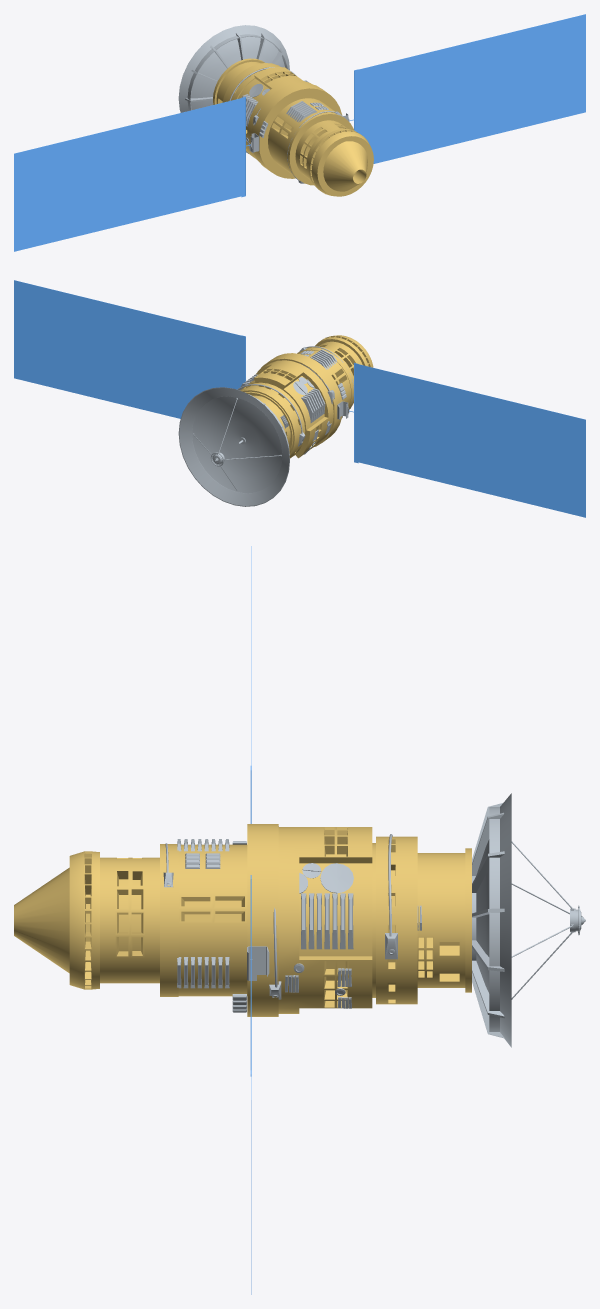
Rendered from satellite.glb.
3 views of the same model, one above another, from view 1: azimuth 30°, elevation 25°; view 2: azimuth 150°, elevation 25°; view 3: azimuth 270°, elevation 25° (orthographic). The views are drawn at different scales.
Visible parts, largest first — view 1: Solar_Panels, Body, Disc, DiscBack, Grill3; view 2: Solar_Panels, Disc, Body, Grill1; view 3: Body, Disc, DiscBack, Grill1, Grill3, Small_Discs, Solar_Panels.
Boxes of the visible parts, x1,y1,x2,y2 form: Solar_Panels: (14,14,585,251); Body: (213,58,373,196); Disc: (178,25,289,112); DiscBack: (185,32,283,102); Grill3: (286,101,316,122); Solar_Panels: (14,280,585,517); Disc: (178,387,289,506); Body: (240,335,373,458); Grill1: (239,374,325,422); Body: (14,824,471,1016); Disc: (472,793,511,1047); DiscBack: (472,803,504,1038); Grill1: (301,893,353,949); Grill3: (177,839,229,988); Small_Discs: (299,863,353,893); Solar_Panels: (250,546,251,1294).
Size of the model in its own units: 1522 by 297 by 664.
